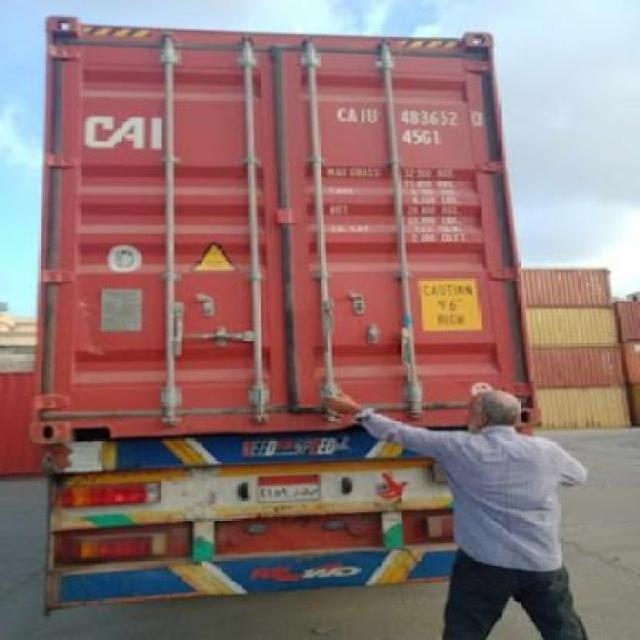ISO: (401, 128, 443, 146)
container_number: (338, 105, 484, 126)
